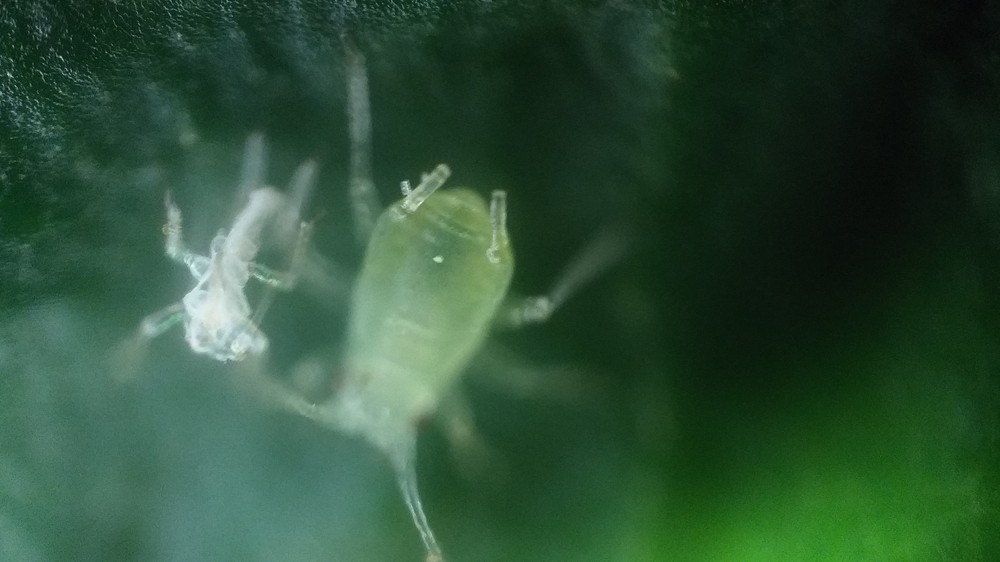Pulgon: (242, 80, 656, 562)
